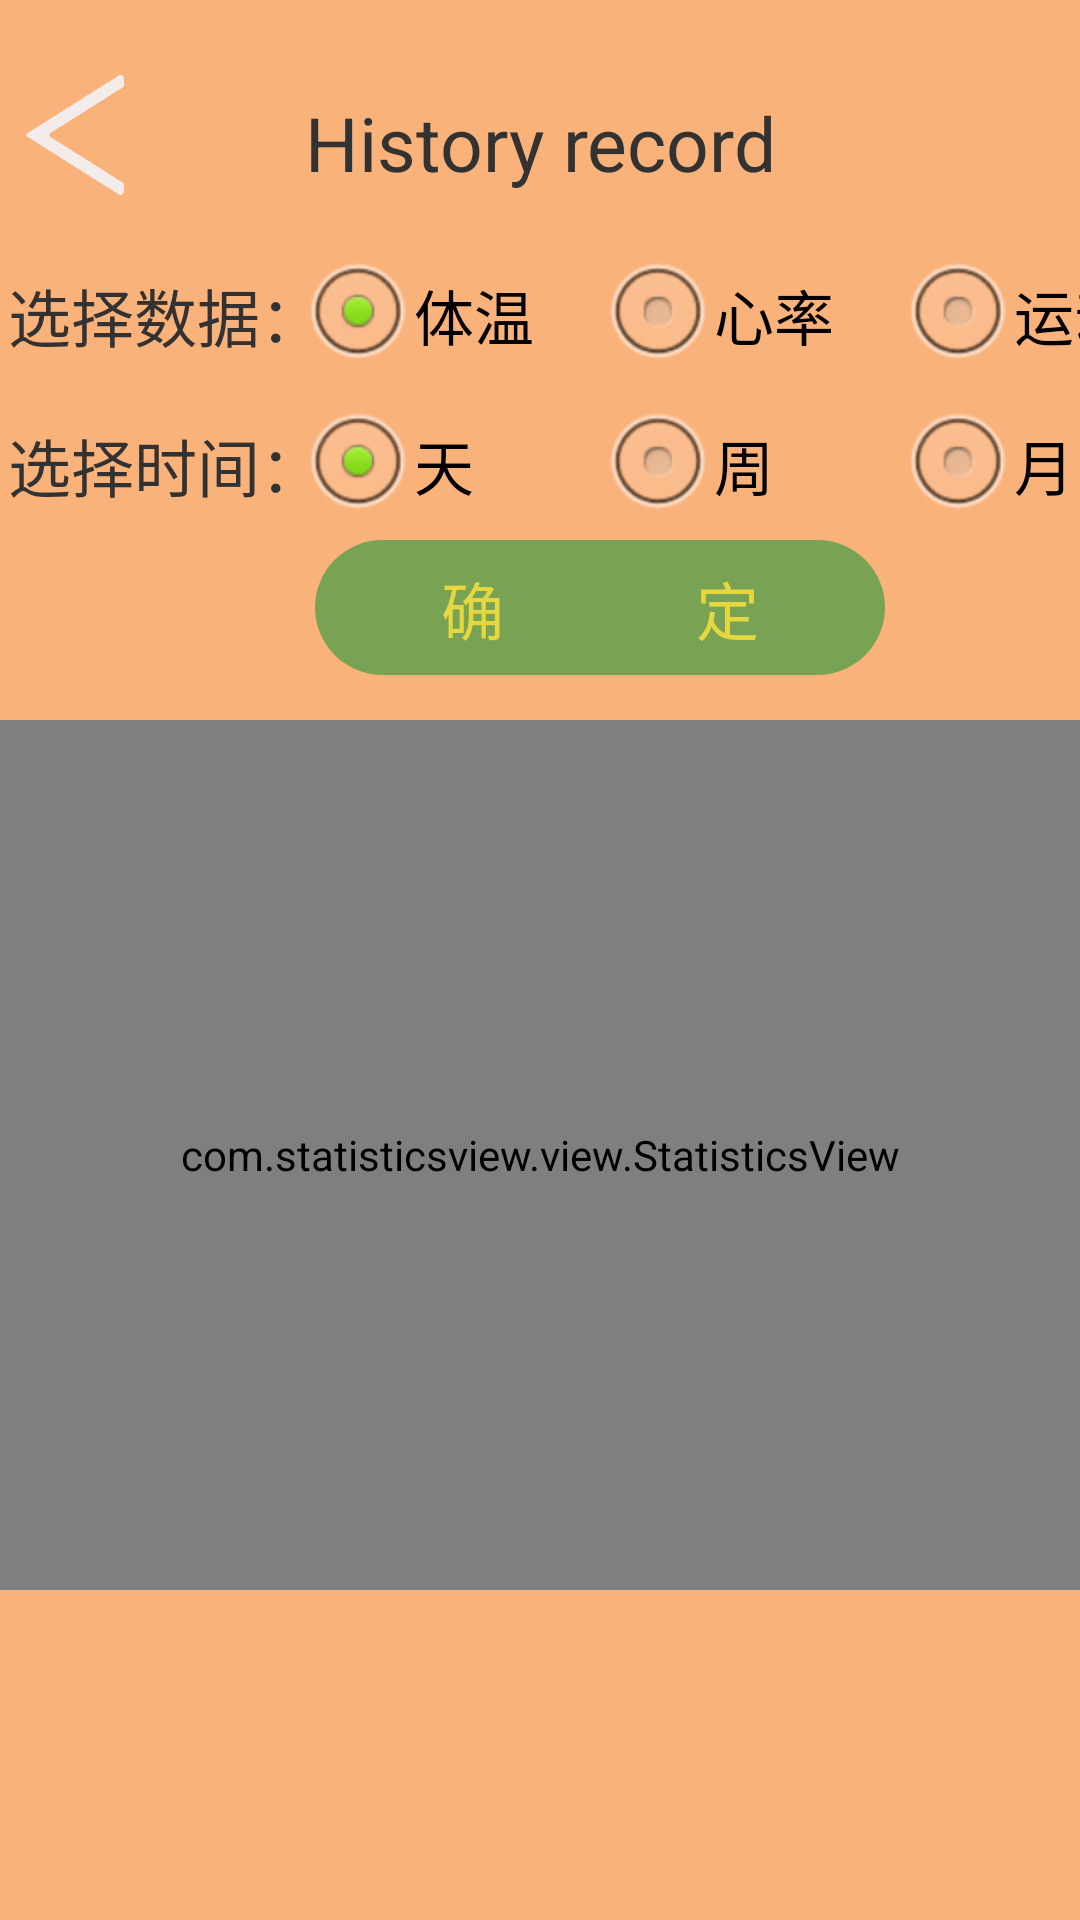

Icon click points for this 1080*1920 phone screenshot, format point (x, y):
back: point (75, 135)
